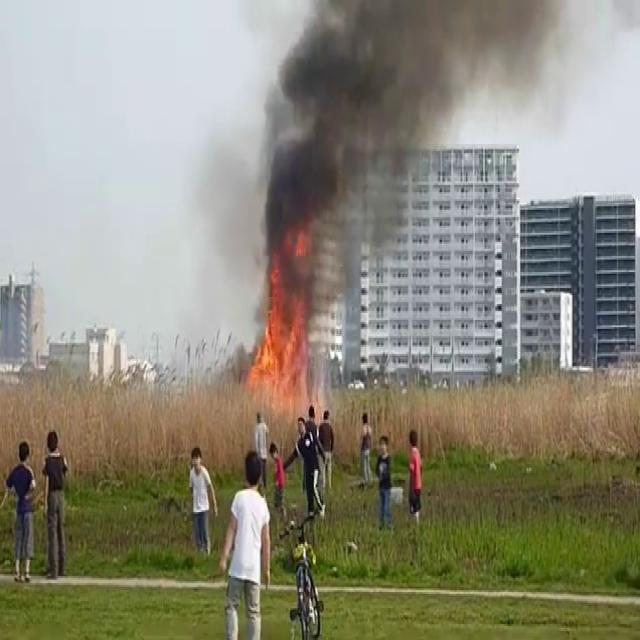Fire: (242, 260, 316, 408)
Smoke: (243, 0, 455, 284)
